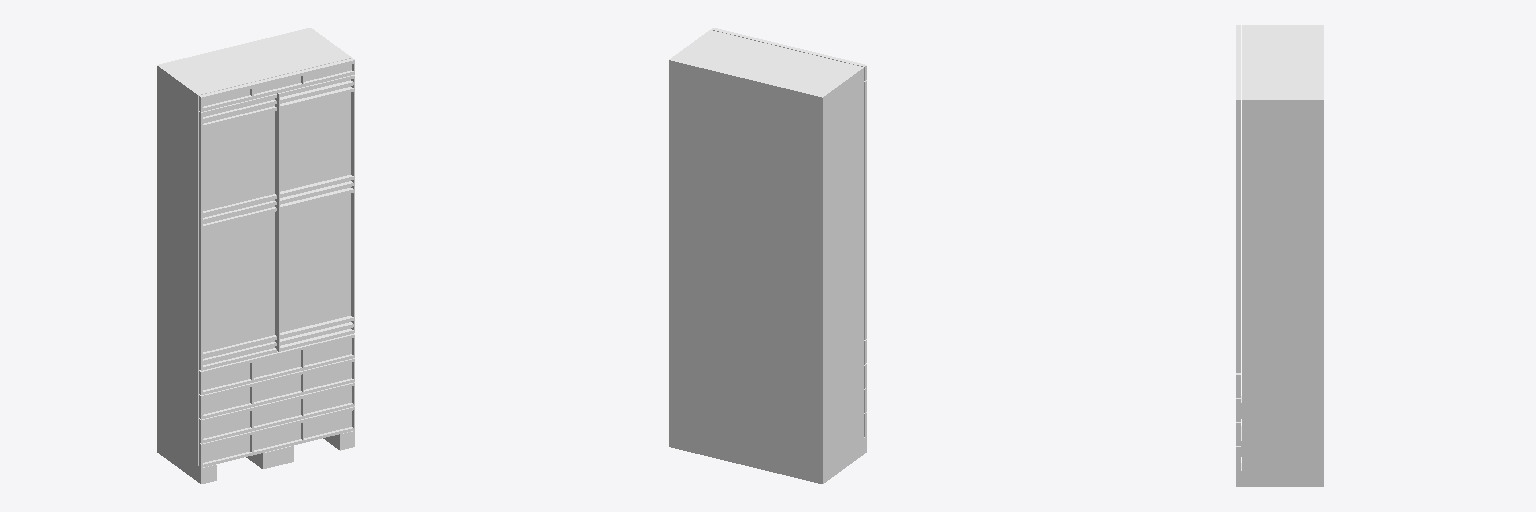
Rendered from closet.obj.
The picture shows the model from 3 angles: view 1: azimuth 30°, elevation 25°; view 2: azimuth 150°, elevation 25°; view 3: azimuth 270°, elevation 25°; orthographic projection.
Parts seen in each view (by area): view 1: Box22_16, Box17_11, Line17_18, Line12_4, Box12_1, Box14_5, Box15_6, Box16_8, Line16_17, Line15_10, Line13_7, Line11_2 (+4 smaller); view 2: Box22_16, Box13_3, Box19_13, Line12_4; view 3: Box22_16, Box20_14, Line17_18.
Part boxes in pixels (left/top/right/bottom): Box22_16: left=157, top=28, right=351, bottom=465; Box17_11: left=203, top=98, right=274, bottom=364; Line17_18: left=277, top=75, right=354, bottom=351; Line12_4: left=199, top=94, right=276, bottom=370; Box12_1: left=203, top=338, right=351, bottom=389; Box14_5: left=203, top=411, right=351, bottom=462; Box15_6: left=203, top=387, right=351, bottom=438; Box16_8: left=203, top=362, right=351, bottom=414; Line16_17: left=199, top=58, right=354, bottom=111; Line15_10: left=199, top=334, right=354, bottom=394; Line13_7: left=199, top=382, right=354, bottom=443; Line11_2: left=199, top=406, right=354, bottom=467; Box22_16: left=669, top=30, right=863, bottom=467; Box13_3: left=684, top=435, right=806, bottom=480; Box19_13: left=807, top=436, right=866, bottom=483; Line12_4: left=864, top=80, right=866, bottom=339; Box22_16: left=1242, top=25, right=1323, bottom=470; Box20_14: left=1236, top=463, right=1323, bottom=486; Line17_18: left=1236, top=115, right=1240, bottom=372.
Size of the model in its own units: 100 by 240 by 50.